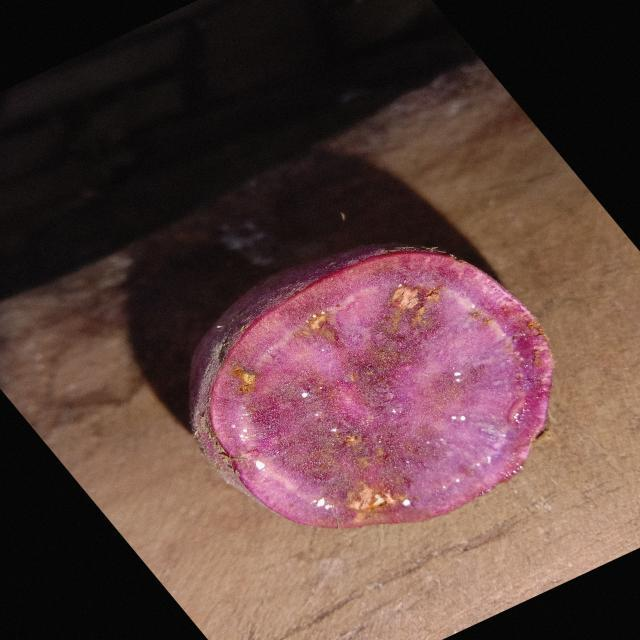Sick Sweet Potato_Tuber Rot: (190, 245, 553, 528)
